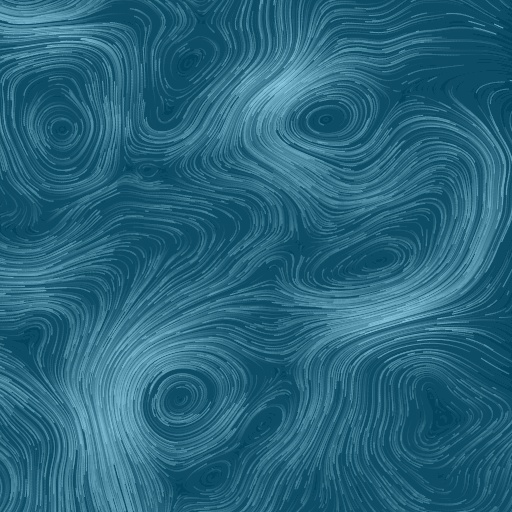eddy: (6, 59, 112, 188), (393, 359, 489, 466), (138, 358, 229, 443), (277, 78, 377, 152), (334, 234, 418, 285), (164, 31, 222, 87), (183, 455, 237, 494)
